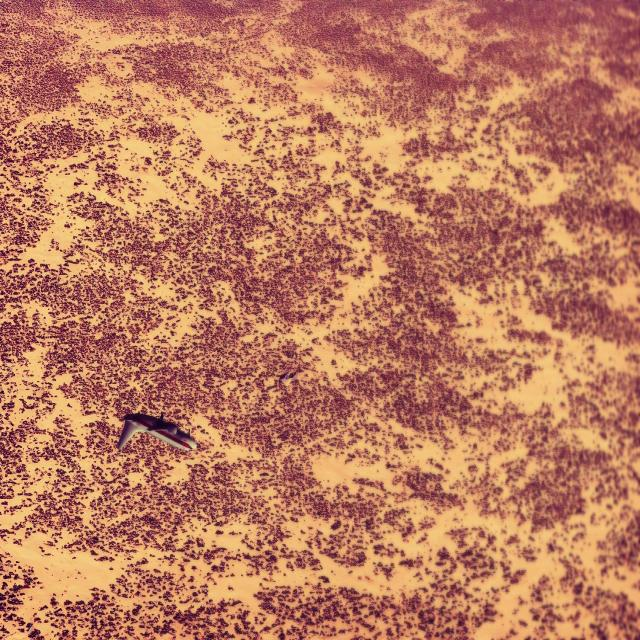airplane: (117, 412, 197, 453)
